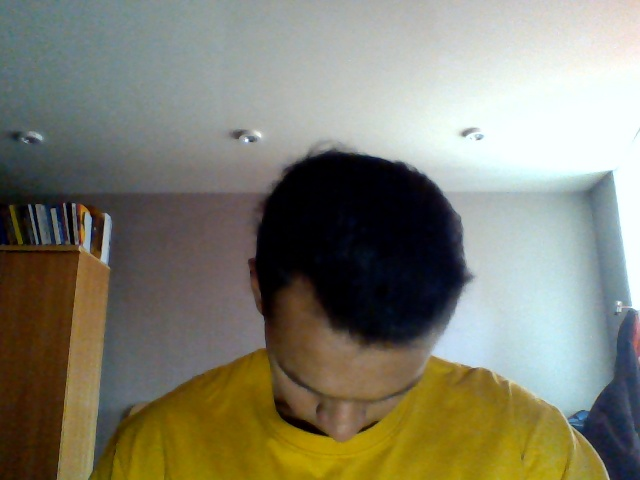no_mask: (274, 395, 394, 444)
